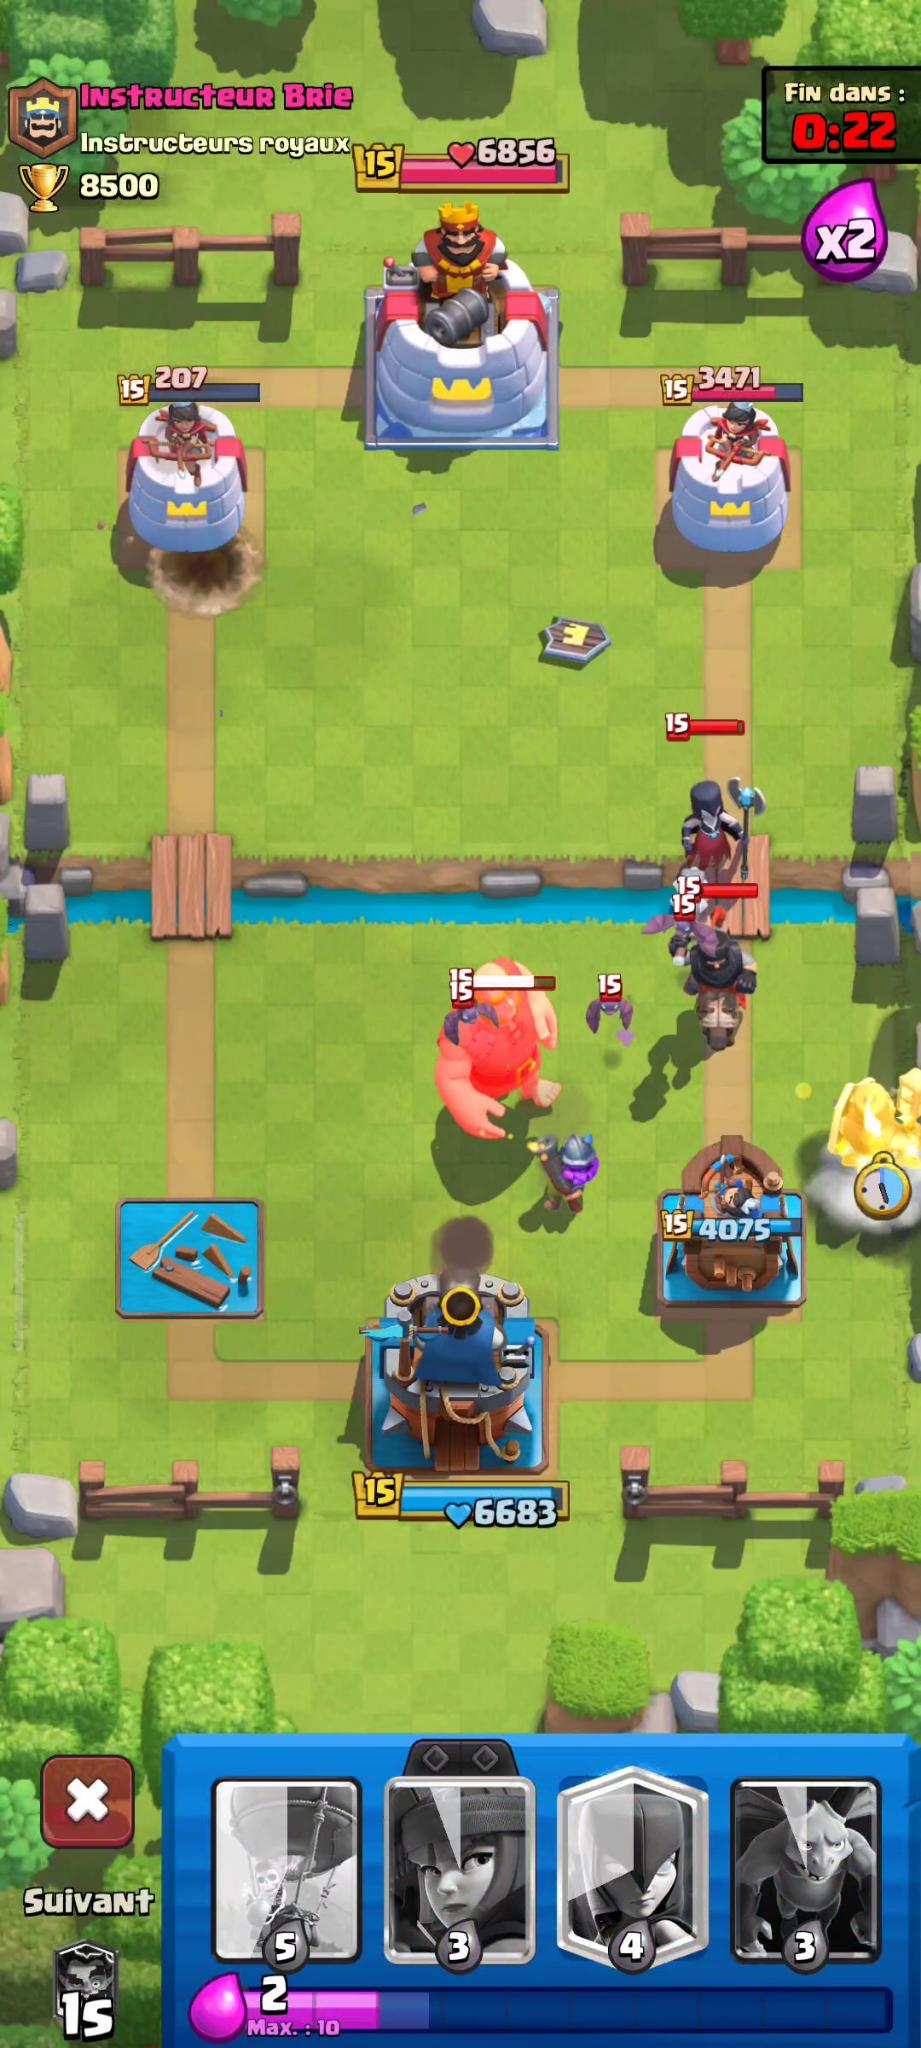bat: (641, 893, 730, 965), (587, 967, 643, 1038), (435, 993, 509, 1044)
geant: (432, 935, 568, 1149)
mousquetaire: (517, 1131, 613, 1219)
